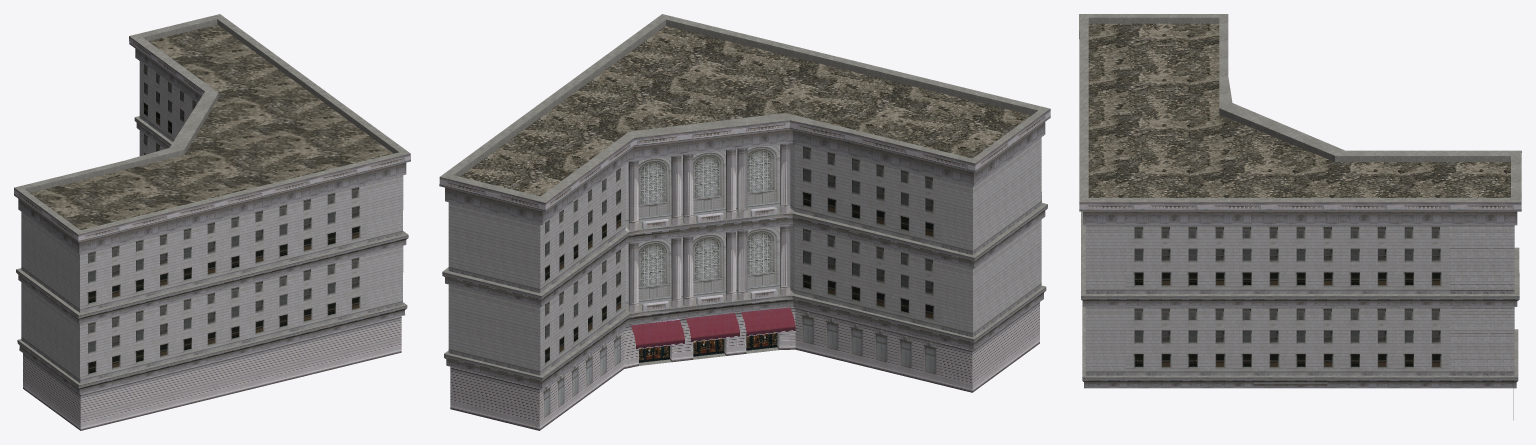
File: temphotel1_sfs.obj
3 renders of one model, left to right at view 1: azimuth 30°, elevation 25°; view 2: azimuth 150°, elevation 25°; view 3: azimuth 270°, elevation 25°, orthographic. The views are drawn at different scales.
Parts seen in each view (by area): view 1: temphotel1_sfs; view 2: temphotel1_sfs; view 3: temphotel1_sfs.
Boxes of the visible parts, x1=… form: temphotel1_sfs: x1=14, y1=14, x2=410, y2=430; temphotel1_sfs: x1=439, y1=14, x2=1050, y2=430; temphotel1_sfs: x1=1079, y1=14, x2=1521, y2=420.
Size of the model in its own units: 53.25 by 30.61 by 52.91.
Materials: 11 (11 with a texture image).
